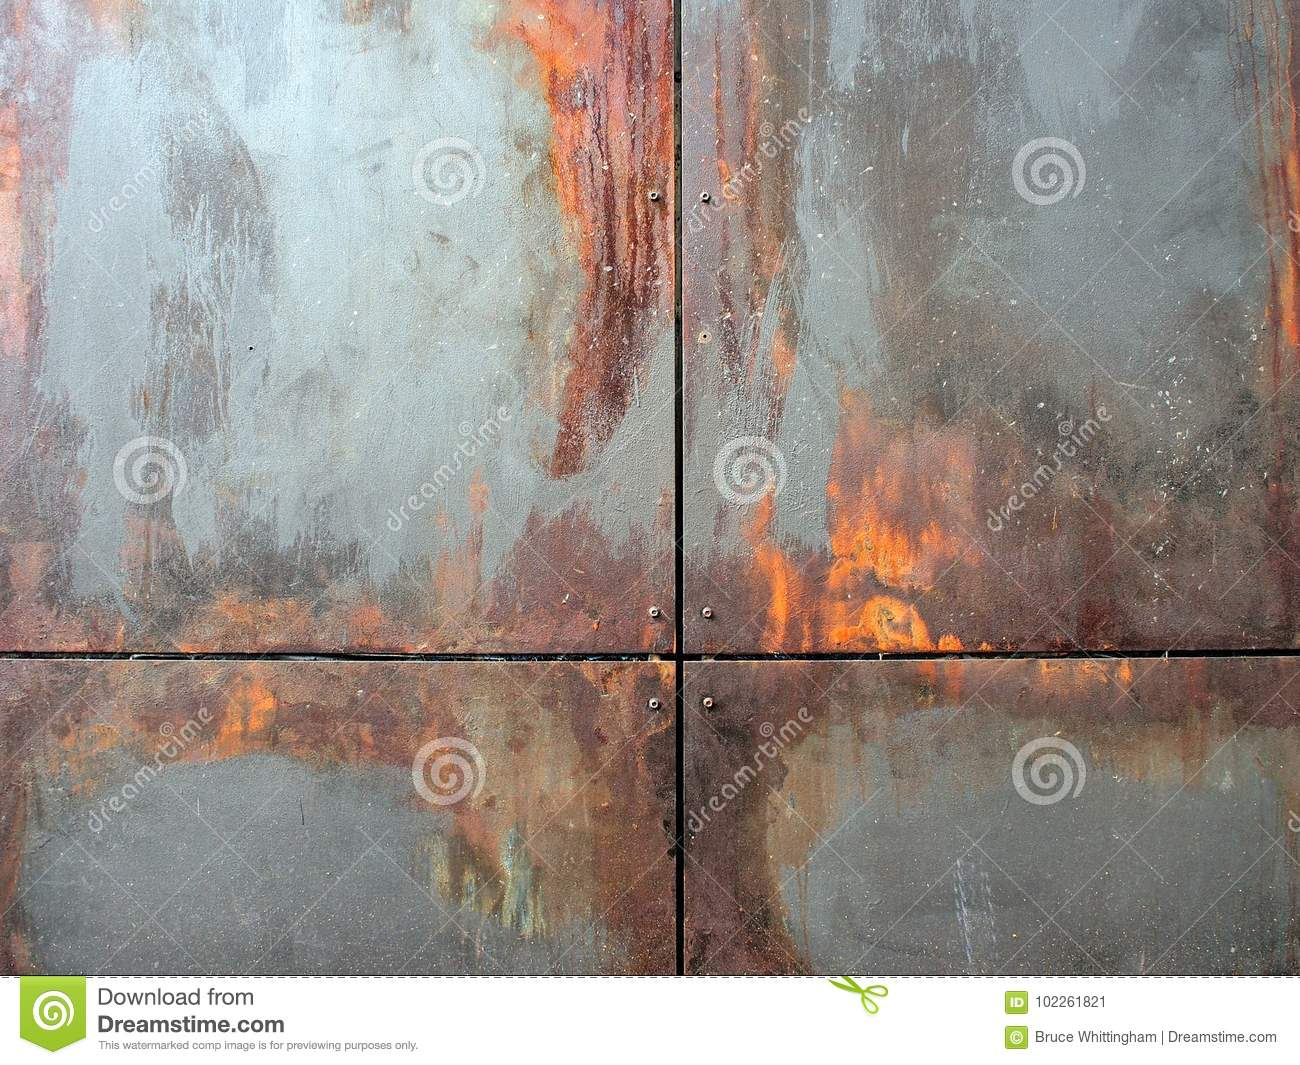rust: (832, 439, 1296, 718), (540, 532, 790, 970), (525, 16, 678, 464)
